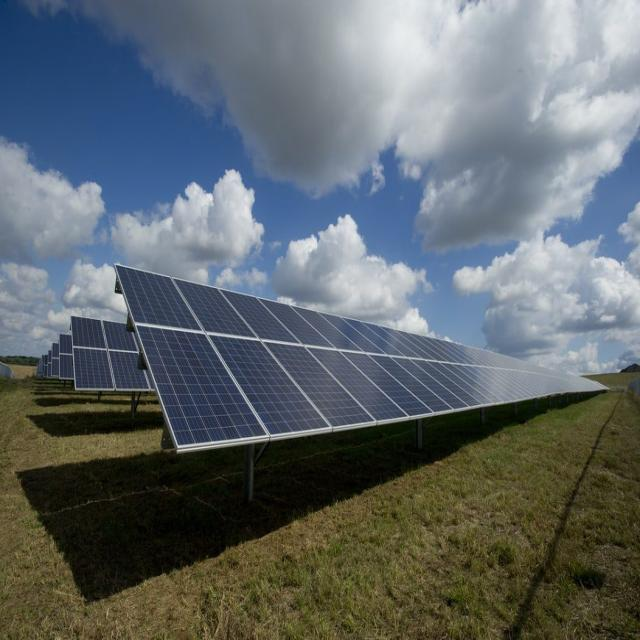clean-solar-panel: (115, 265, 604, 451)
